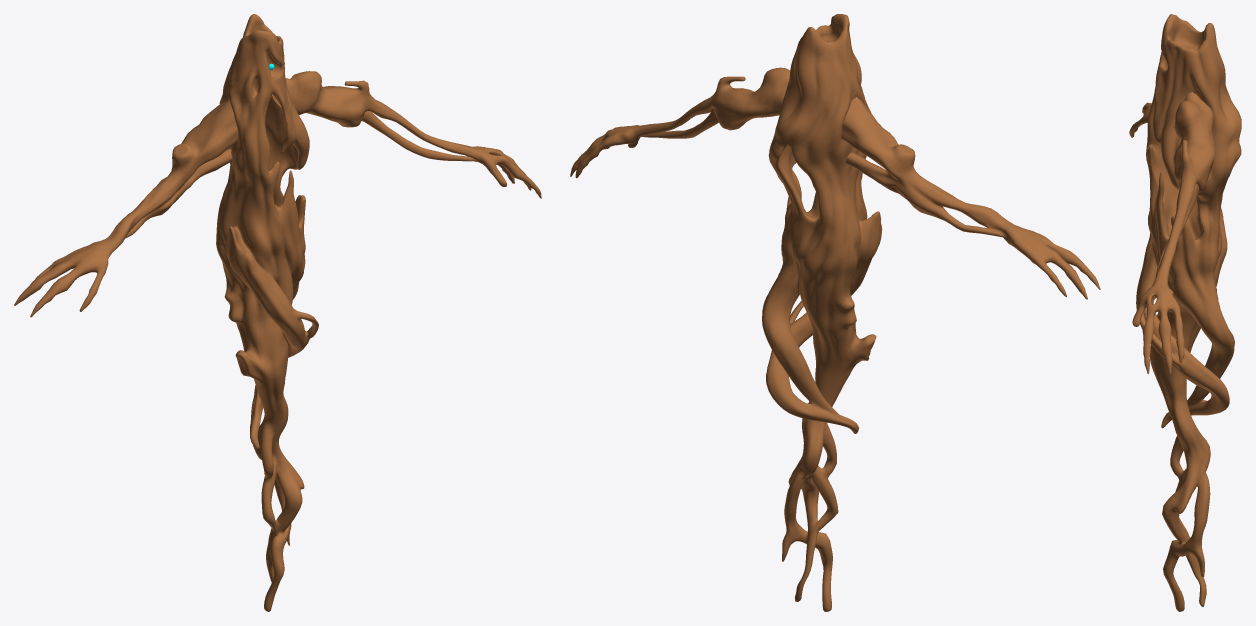
File: Ent.fbx
The picture shows the model from 3 angles, left to right: view 1: azimuth 30°, elevation 25°; view 2: azimuth 150°, elevation 25°; view 3: azimuth 270°, elevation 25°; orthographic projection.
Parts seen in each view (by area): view 1: body_geo, R_arm_geo, L_arm_geo, L_arm_01_geo; view 2: body_geo, R_arm_geo, L_arm_geo; view 3: body_geo, L_arm_geo, L_arm_01_geo, R_arm_geo.
Boxes of the visible parts, x1,y1,x2,y2 form: body_geo: [216, 14, 318, 611]; R_arm_geo: [14, 99, 237, 317]; L_arm_geo: [272, 71, 541, 198]; L_arm_01_geo: [362, 111, 476, 161]; body_geo: [762, 14, 882, 611]; R_arm_geo: [841, 97, 1100, 299]; L_arm_geo: [570, 67, 790, 178]; body_geo: [1136, 14, 1241, 611]; L_arm_geo: [1132, 92, 1215, 374]; L_arm_01_geo: [1155, 183, 1199, 277]; R_arm_geo: [1129, 102, 1151, 137].
Bounding box in the file's own units: 192 × 210 × 36.28.
